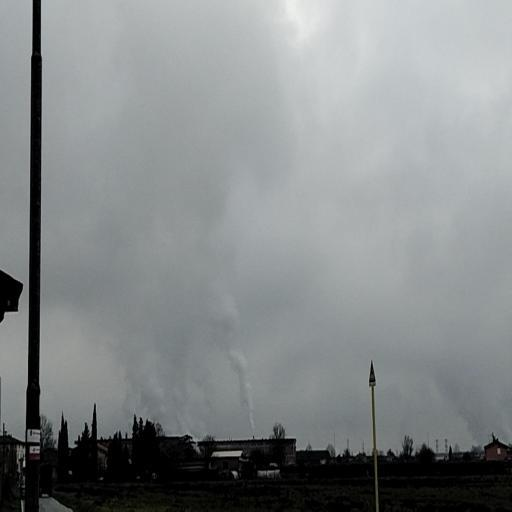leakage: (92, 243, 261, 454)
